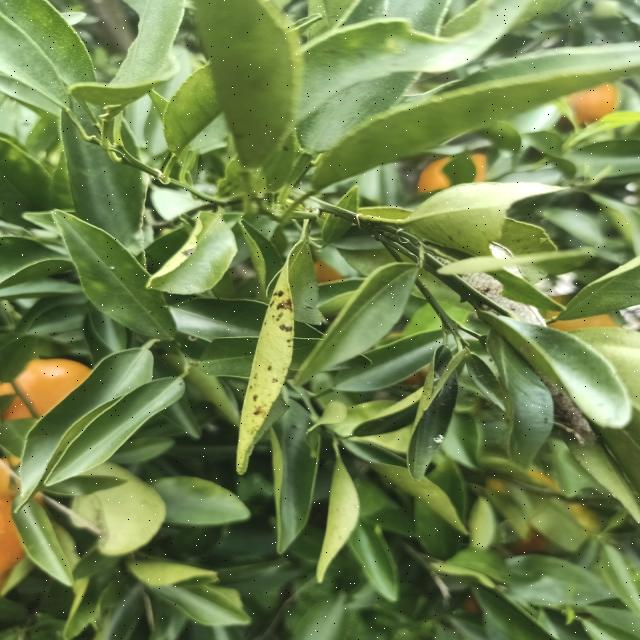melanose: (202, 248, 327, 459)
